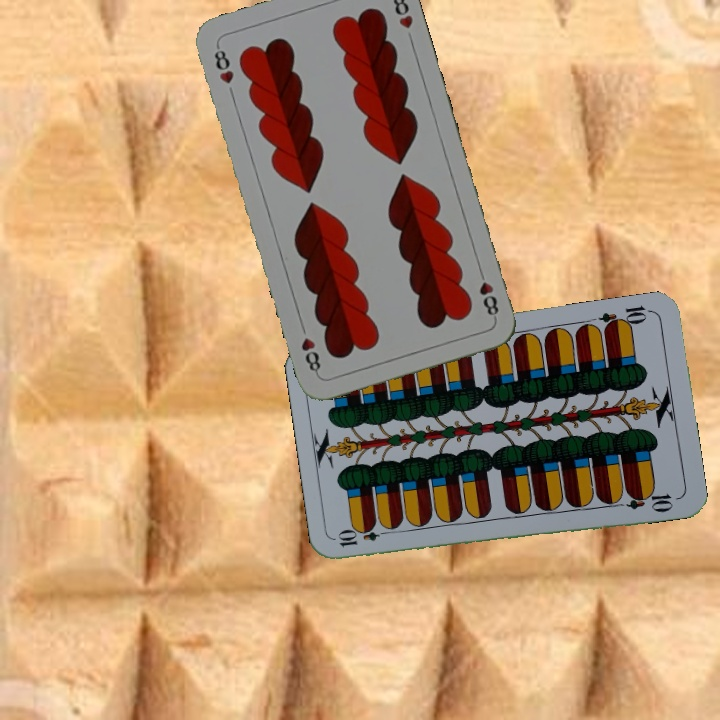E10: (596, 302, 655, 333), (334, 524, 393, 549)
H8: (474, 264, 501, 322), (210, 41, 237, 87)
